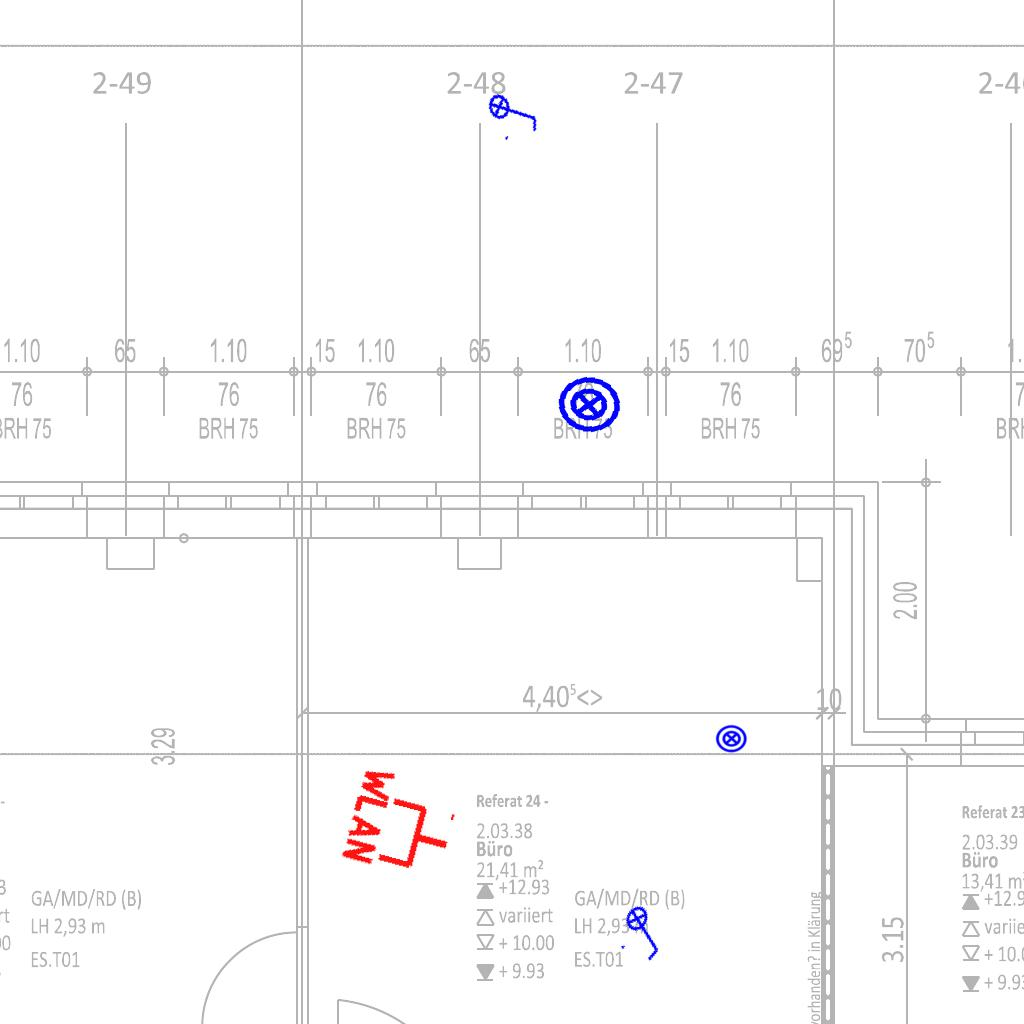Ausschalter_beleuchtet: (611, 896, 679, 968), (483, 79, 545, 145)
Taster_beleuchtet: (552, 368, 626, 442), (715, 722, 748, 755)
WLAN: (338, 760, 467, 888)
